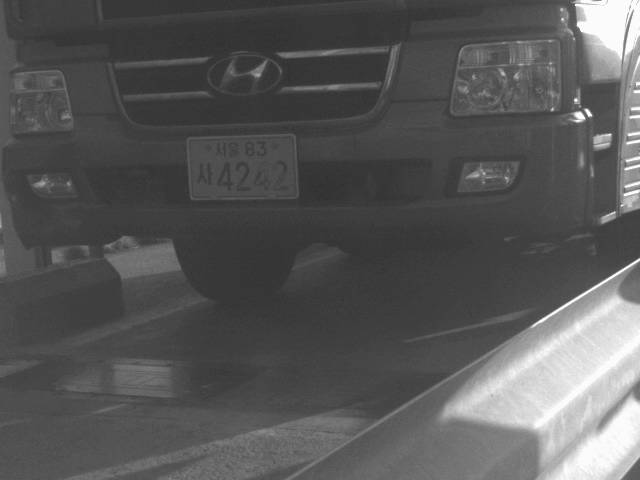car: (1, 1, 640, 298)
plate: (184, 133, 302, 202)
